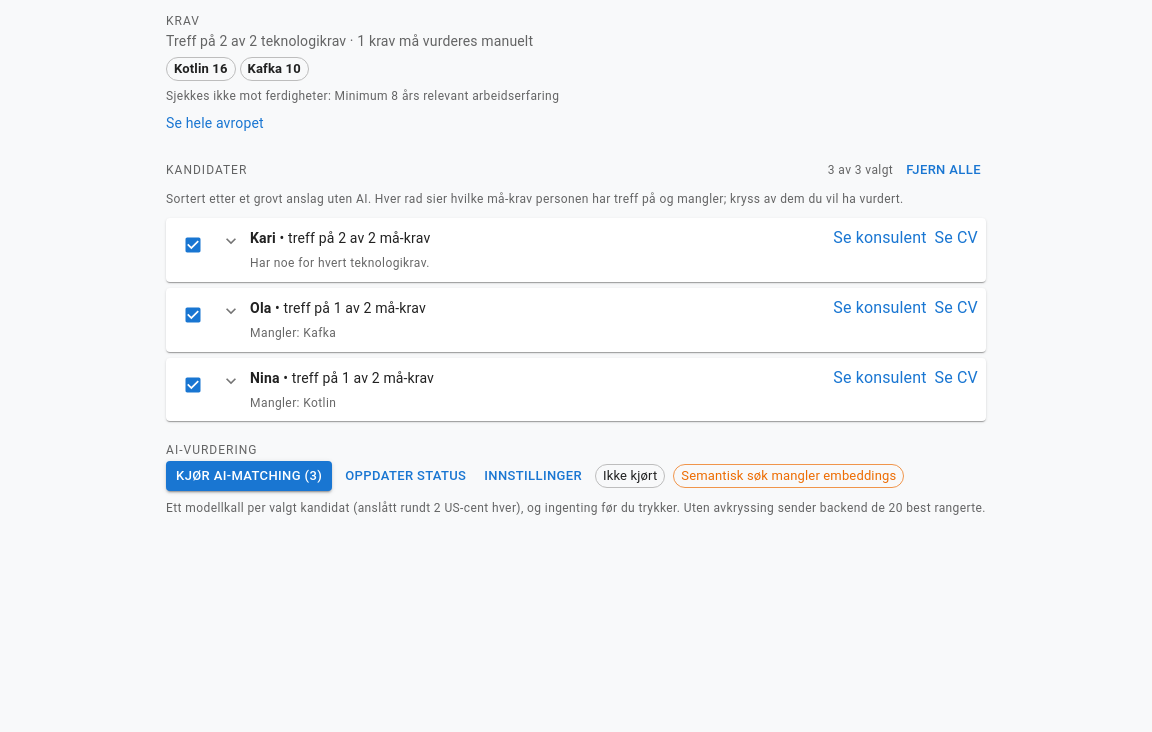
Scenario: RequestMatchPanel › keeps the settings behind a button, with highest quality off by default
expect the text "3 av 3 valgt" is shown: met, box [828,160,893,180]
expect the checkbox labelled "Bruk høyeste kvalitet" is not shown: met
Click the button "Innstillinger" at (533, 476), box [479,461,587,492]
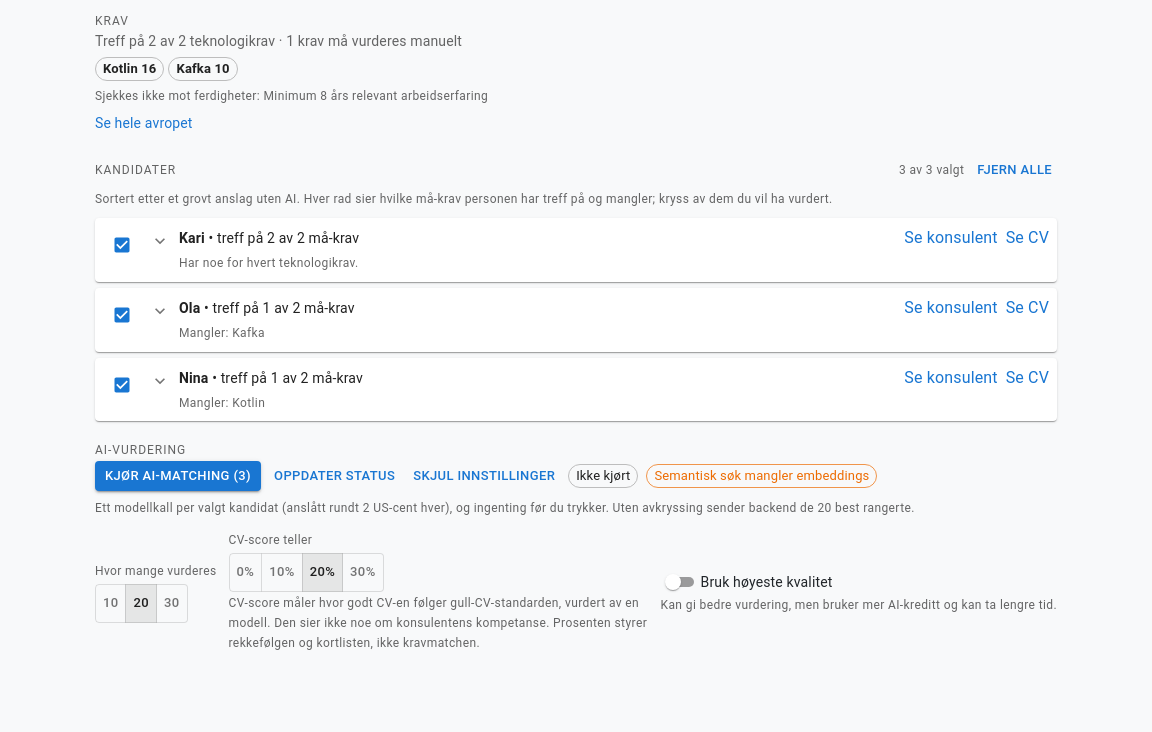
expect the 4th checkbox labelled "Bruk høyeste kvalitet" is not checked: met, box [664,574,832,590]
expect the text "Hvor mange vurderes" is shown: met, box [95,562,217,582]
